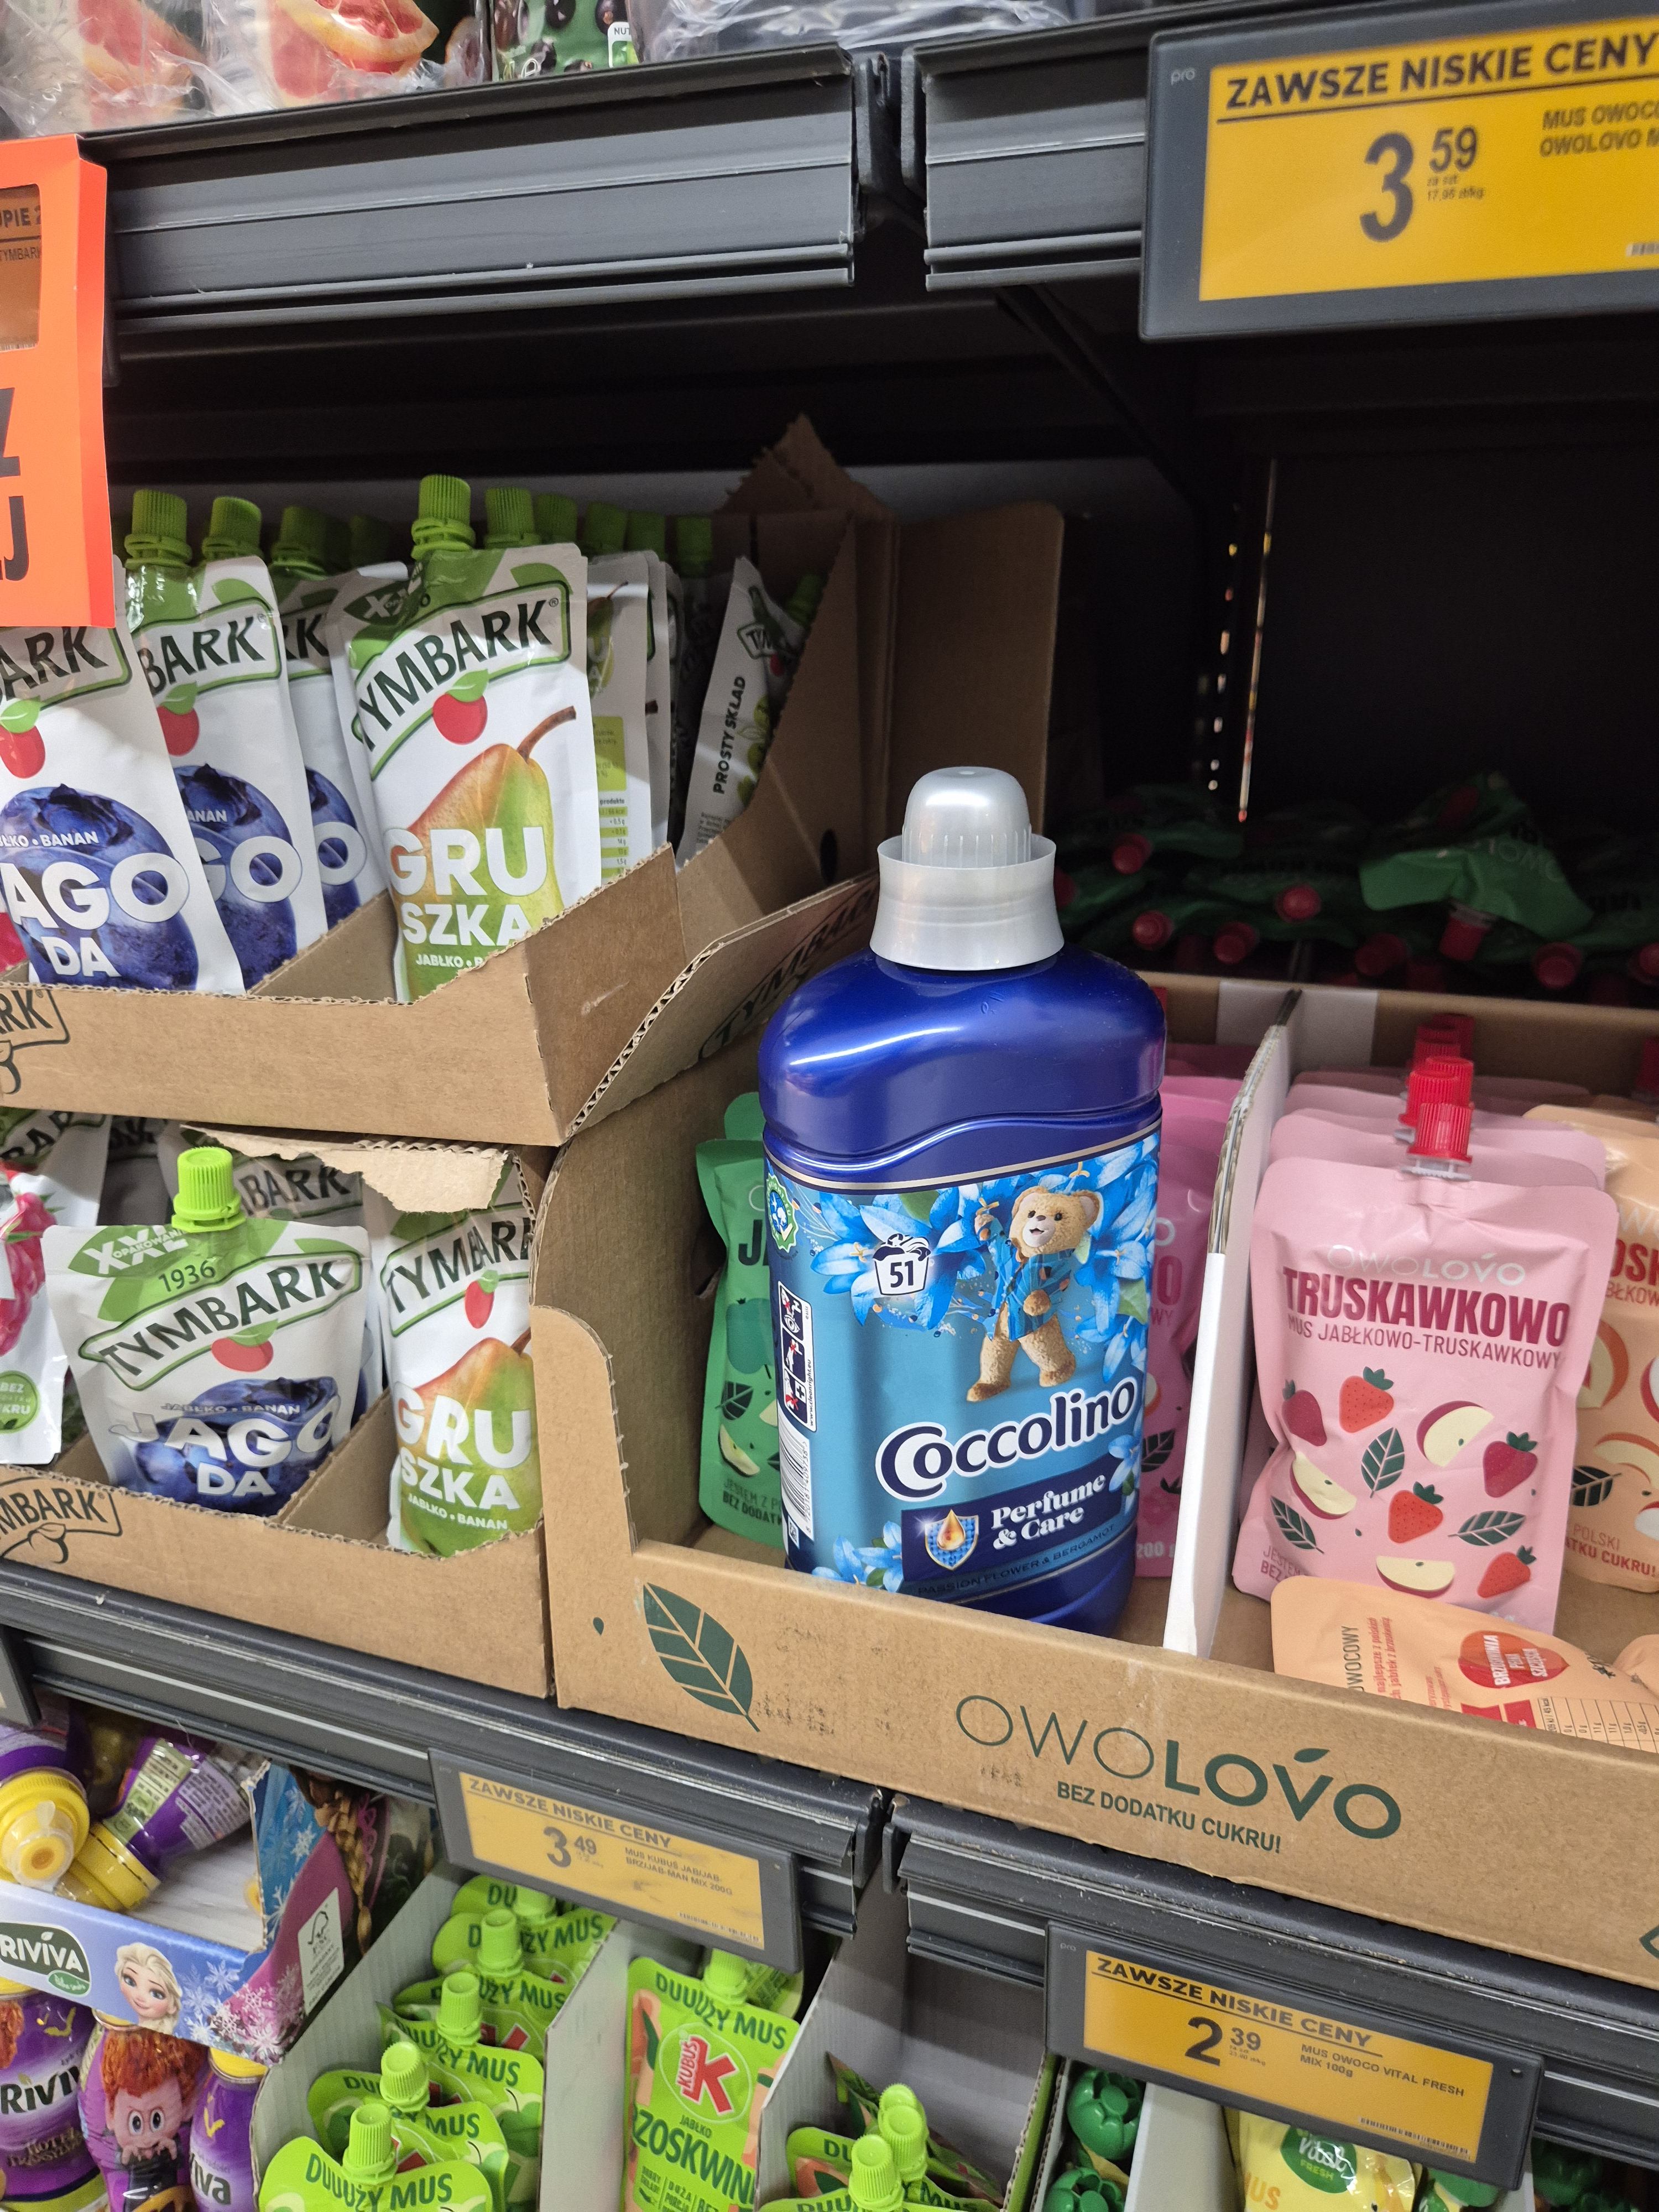cocolino: (772, 765, 1169, 1658)
